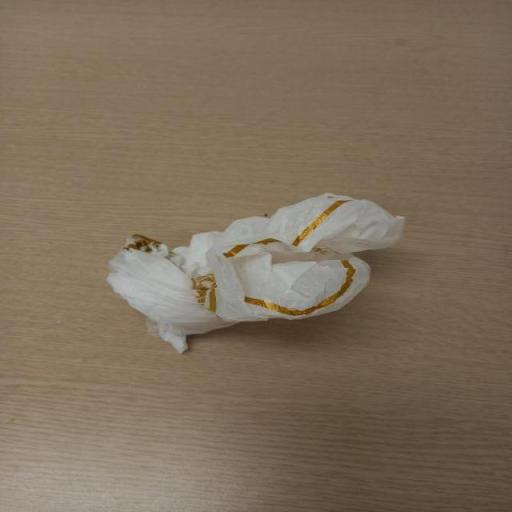plastic-bag: (100, 192, 412, 355)
